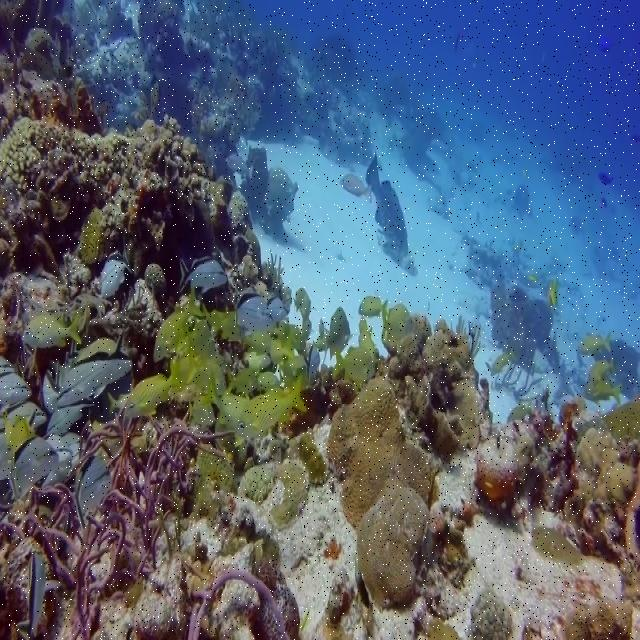aquatic plants: (10, 416, 234, 639)
fish: (54, 332, 139, 407), (235, 374, 312, 437), (369, 154, 408, 266), (122, 357, 187, 416), (156, 283, 205, 360), (10, 439, 60, 498), (22, 312, 81, 346), (92, 252, 130, 299), (180, 261, 227, 293)
reefs: (0, 116, 261, 298), (330, 380, 433, 526), (356, 479, 429, 603)
